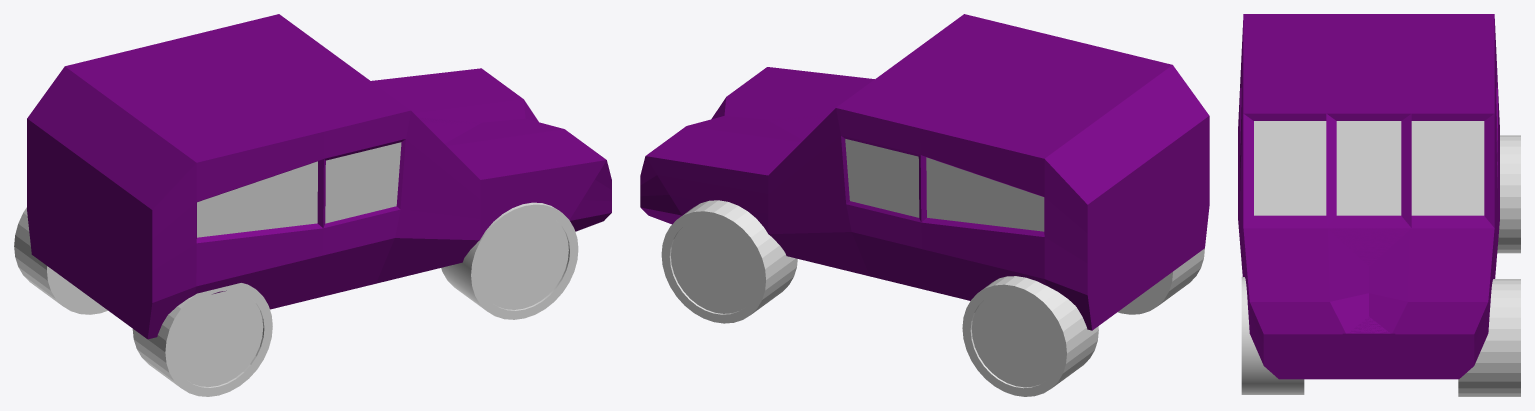
The model's file is Car.fbx.
3 renders of one model, left to right at view 1: azimuth 30°, elevation 25°; view 2: azimuth 150°, elevation 25°; view 3: azimuth 270°, elevation 25°, orthographic. The views are drawn at different scales.
Parts seen in each view (by area): view 1: Car, Car1, Car5, Car3; view 2: Car, Car3, Car2, Car1; view 3: Car, Car2, Car3, Car5.
Part boxes in pixels (left/top/right/bottom): Car: left=27, top=14, right=611, bottom=339; Car1: left=132, top=283, right=272, bottom=396; Car5: left=441, top=202, right=578, bottom=319; Car3: left=14, top=207, right=107, bottom=314; Car: left=640, top=14, right=1209, bottom=330; Car3: left=962, top=276, right=1098, bottom=396; Car2: left=661, top=200, right=797, bottom=323; Car1: left=1118, top=248, right=1204, bottom=314; Car: left=1238, top=14, right=1499, bottom=379; Car2: left=1458, top=279, right=1520, bottom=396; Car3: left=1497, top=135, right=1520, bottom=253; Car5: left=1241, top=277, right=1304, bottom=394.
Bounding box in the file's own units: 410 × 199 × 225.
